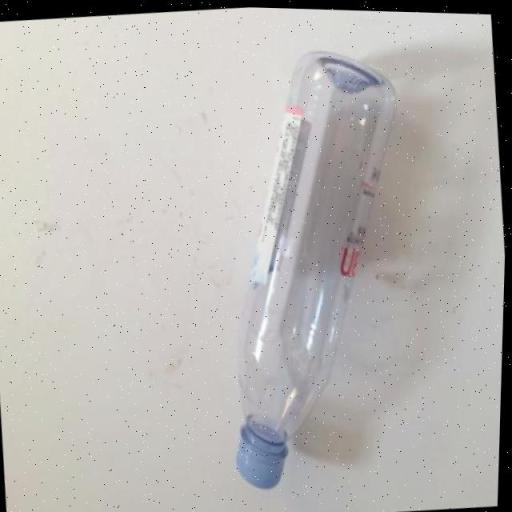plastic: (202, 38, 431, 492)
